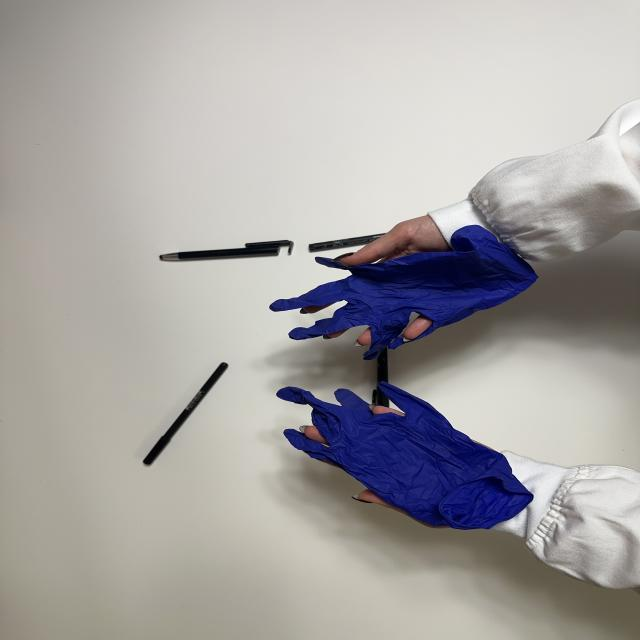glove_not_fitted: (274, 381, 536, 535), (266, 212, 538, 360)
